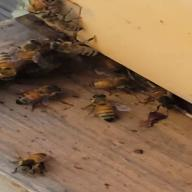Bee: (10, 146, 66, 176), (81, 91, 128, 122)
